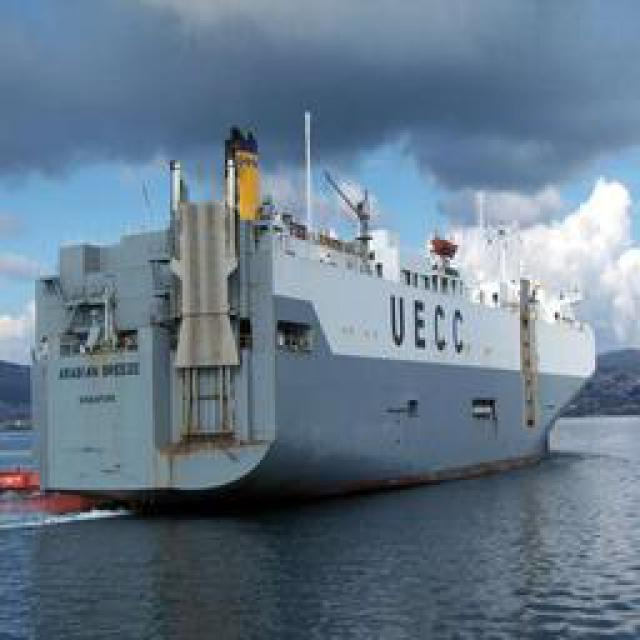Ship: (25, 97, 615, 510)
